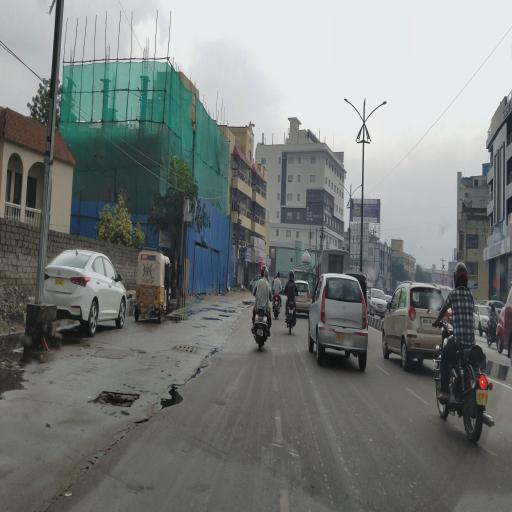street_light_0: (362, 87, 392, 129), (335, 90, 364, 123), (349, 176, 370, 204), (332, 180, 352, 207)
